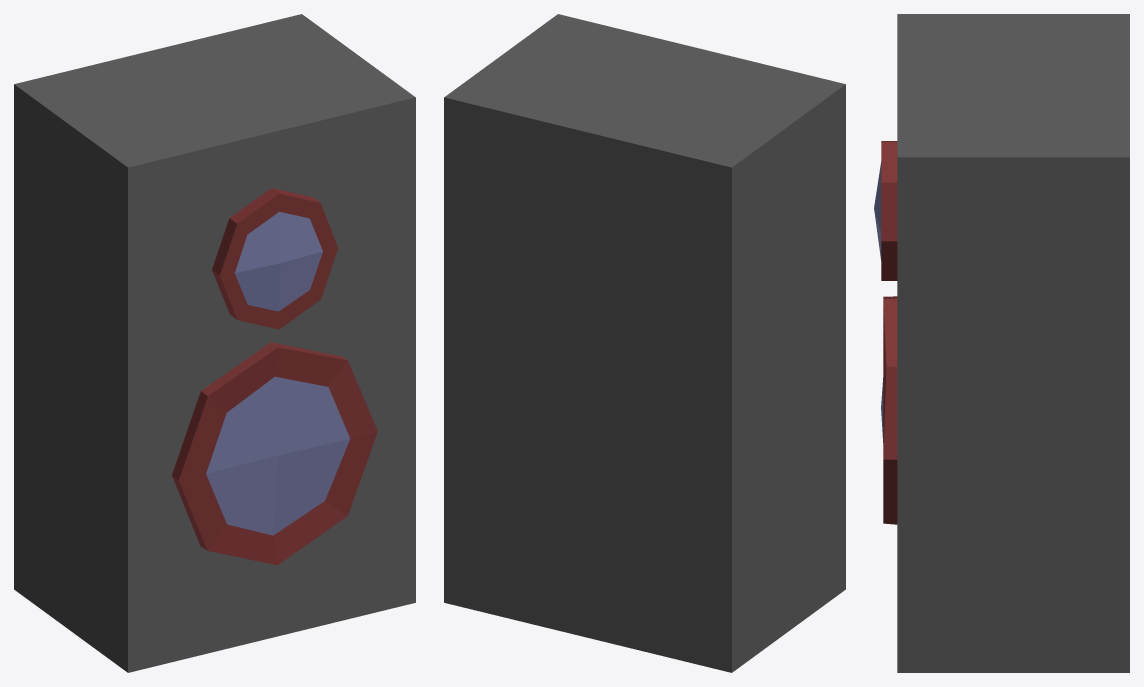
File: Speakers_1.fbx
3 views of the same model, side by side, from view 1: azimuth 30°, elevation 25°; view 2: azimuth 150°, elevation 25°; view 3: azimuth 270°, elevation 25° (orthographic). The views are drawn at different scales.
Visible parts, largest first — view 1: Speakers_1; view 2: Speakers_1; view 3: Speakers_1.
Boxes of the visible parts, x1,y1,x2,y2 form: Speakers_1: [14, 14, 415, 672]; Speakers_1: [444, 14, 845, 672]; Speakers_1: [874, 14, 1129, 672].
Bounding box in the file's own units: 43.32 × 32.71 × 72.7.
